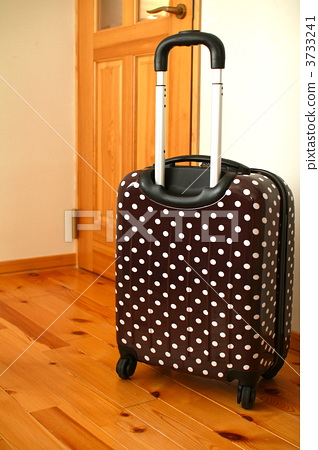box: (114, 169, 295, 381)
handle: (150, 155, 252, 173)
wheel: (236, 384, 256, 410), (115, 357, 137, 380)
